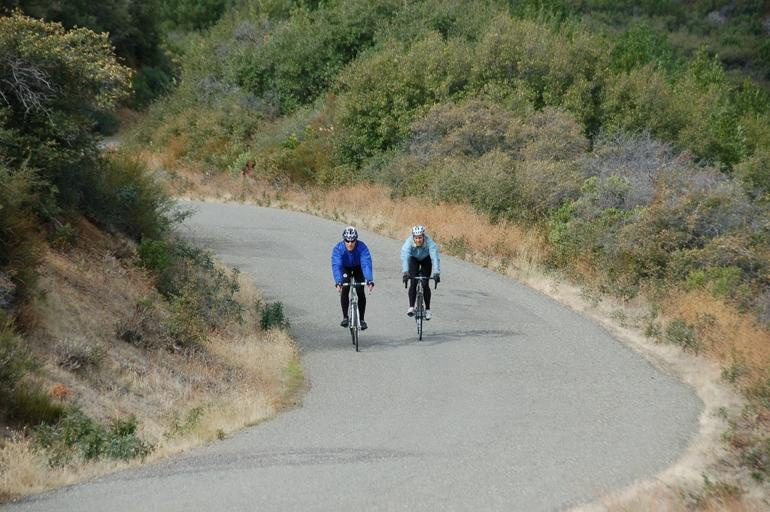non-vehicle: (336, 280, 370, 352), (402, 275, 438, 341)
